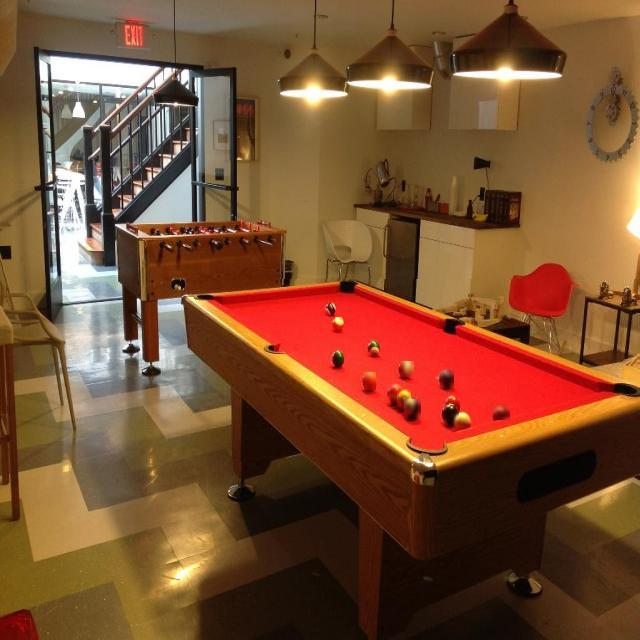Ball: (444, 403, 459, 426), (404, 399, 421, 419), (397, 389, 411, 412), (388, 384, 402, 405), (454, 412, 472, 428), (440, 370, 454, 389), (446, 395, 460, 413), (494, 405, 510, 420), (331, 349, 344, 367), (400, 361, 414, 377), (364, 372, 376, 390), (369, 341, 380, 358), (327, 302, 338, 316), (334, 318, 344, 332)
Billiard table: (182, 279, 640, 462)
